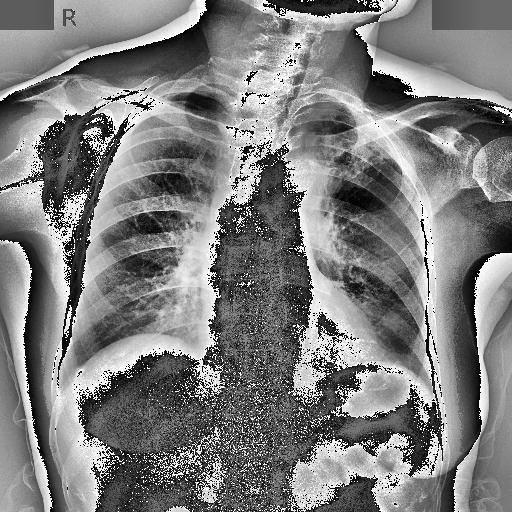0- Aortic enlargement: (266, 153, 325, 225), (278, 154, 320, 196)
1- Atelectasis: (288, 98, 388, 198)
10- Pleural effusion: (50, 370, 71, 400)
11- Pleural thickening: (50, 370, 71, 400)
13- Pulmonary fibrosis: (288, 98, 388, 198), (308, 108, 388, 190), (310, 108, 384, 188)
